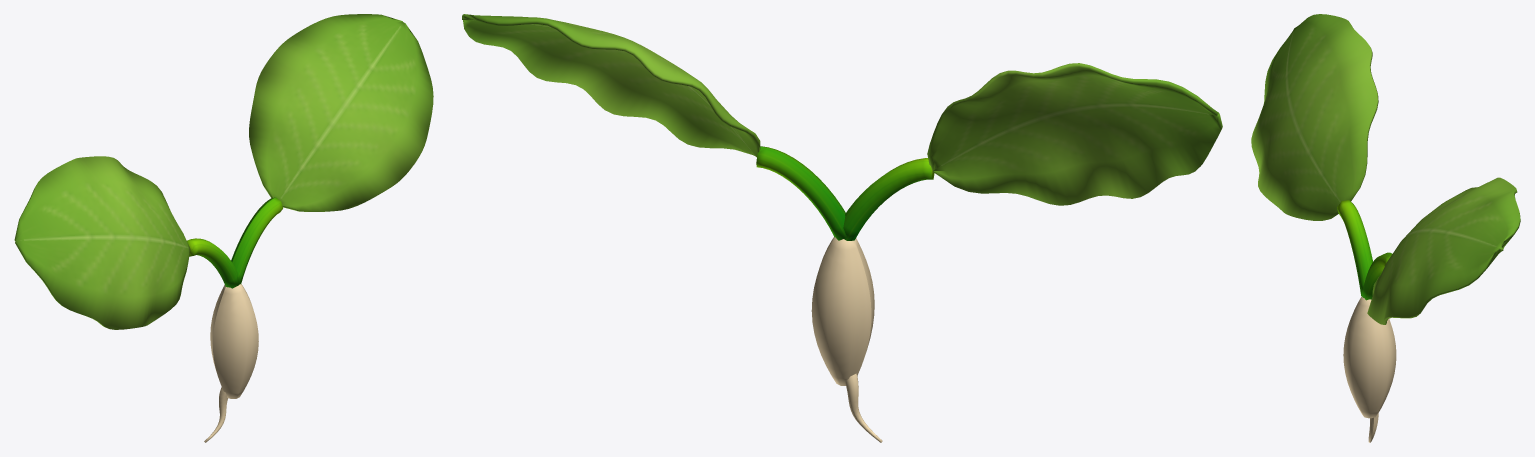
File: NP_Radish_Sprout.fbx
3 renders of one model, left to right at view 1: azimuth 30°, elevation 25°; view 2: azimuth 150°, elevation 25°; view 3: azimuth 270°, elevation 25°, orthographic. The views are drawn at different scales.
Parts seen in each view (by area): view 1: NP_Radish_Sprout; view 2: NP_Radish_Sprout; view 3: NP_Radish_Sprout.
Boxes of the visible parts, x1,y1,x2,y2 form: NP_Radish_Sprout: [14, 14, 433, 442]; NP_Radish_Sprout: [462, 14, 1222, 442]; NP_Radish_Sprout: [1251, 14, 1520, 442].
Bounding box in the file's own units: 31.76 × 20.22 × 14.23.
